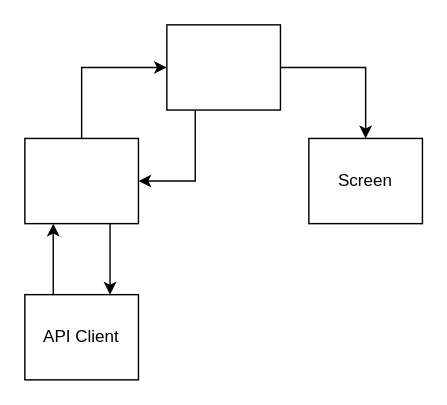
The diagram is 447 pixels wide and 405 high, and some of its shapes have lost their labels. The shapes that lost their labels are listed below. From the top down, each one's box as (x1, y1, x2, y2) in pixels, then its label:
(165, 23, 280, 110): Activity
(23, 137, 138, 224): ViewModel
